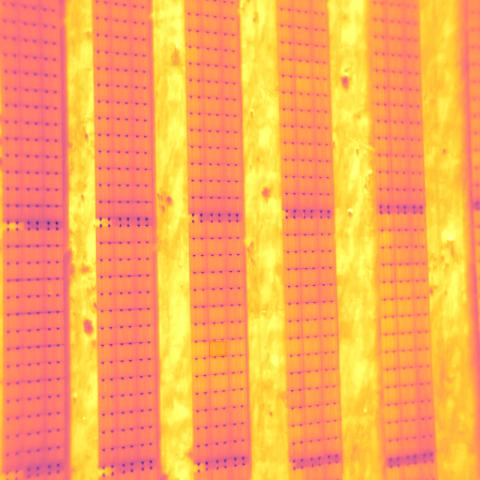fault: (209, 341, 227, 357)
